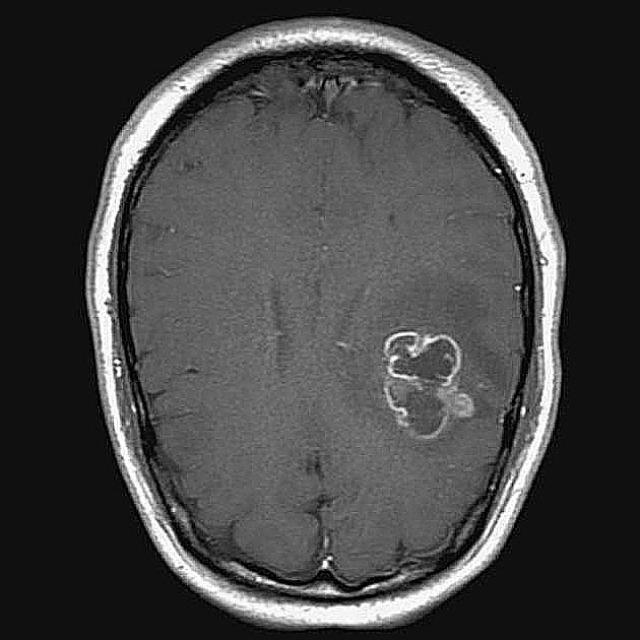Tumor-Cell: (364, 311, 482, 453)
